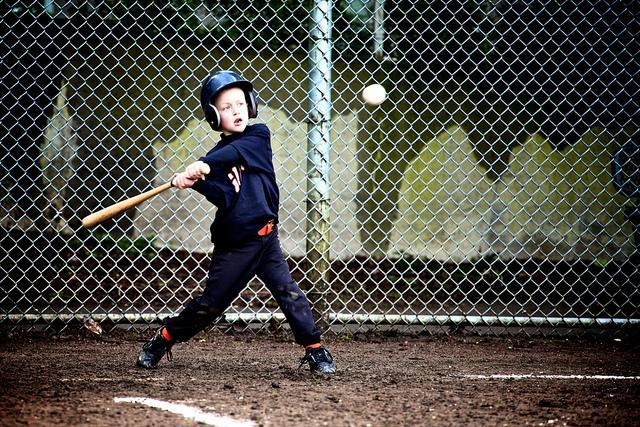baseball bat: (80, 178, 174, 235)
sports ball: (362, 80, 388, 112)
